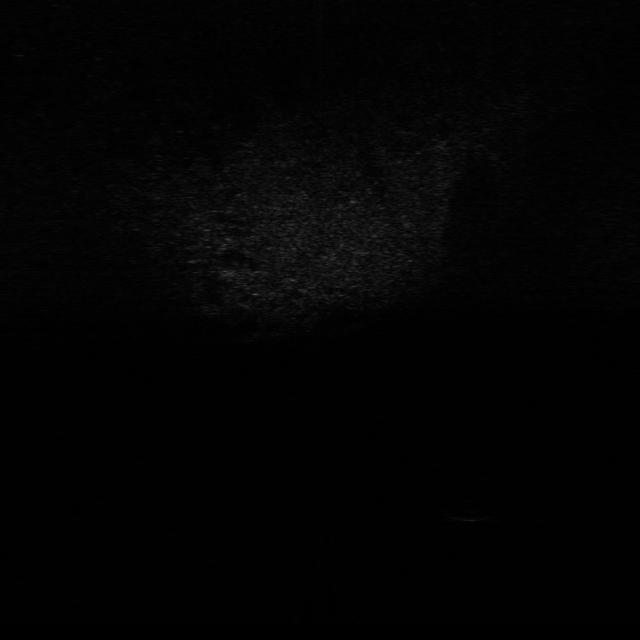ball: (446, 494, 492, 523)
